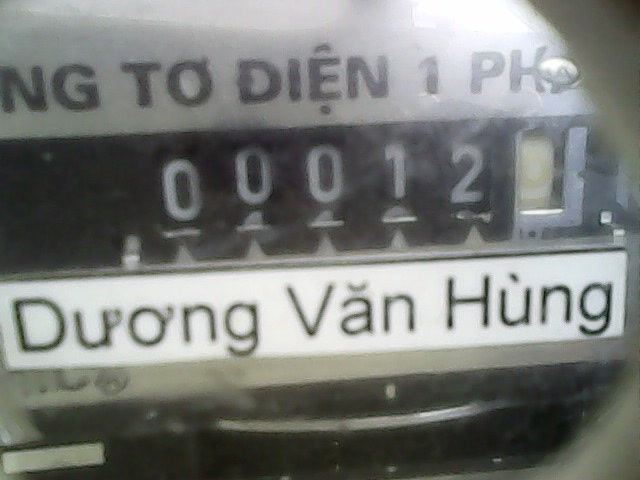phy_plate: (143, 117, 590, 234)
